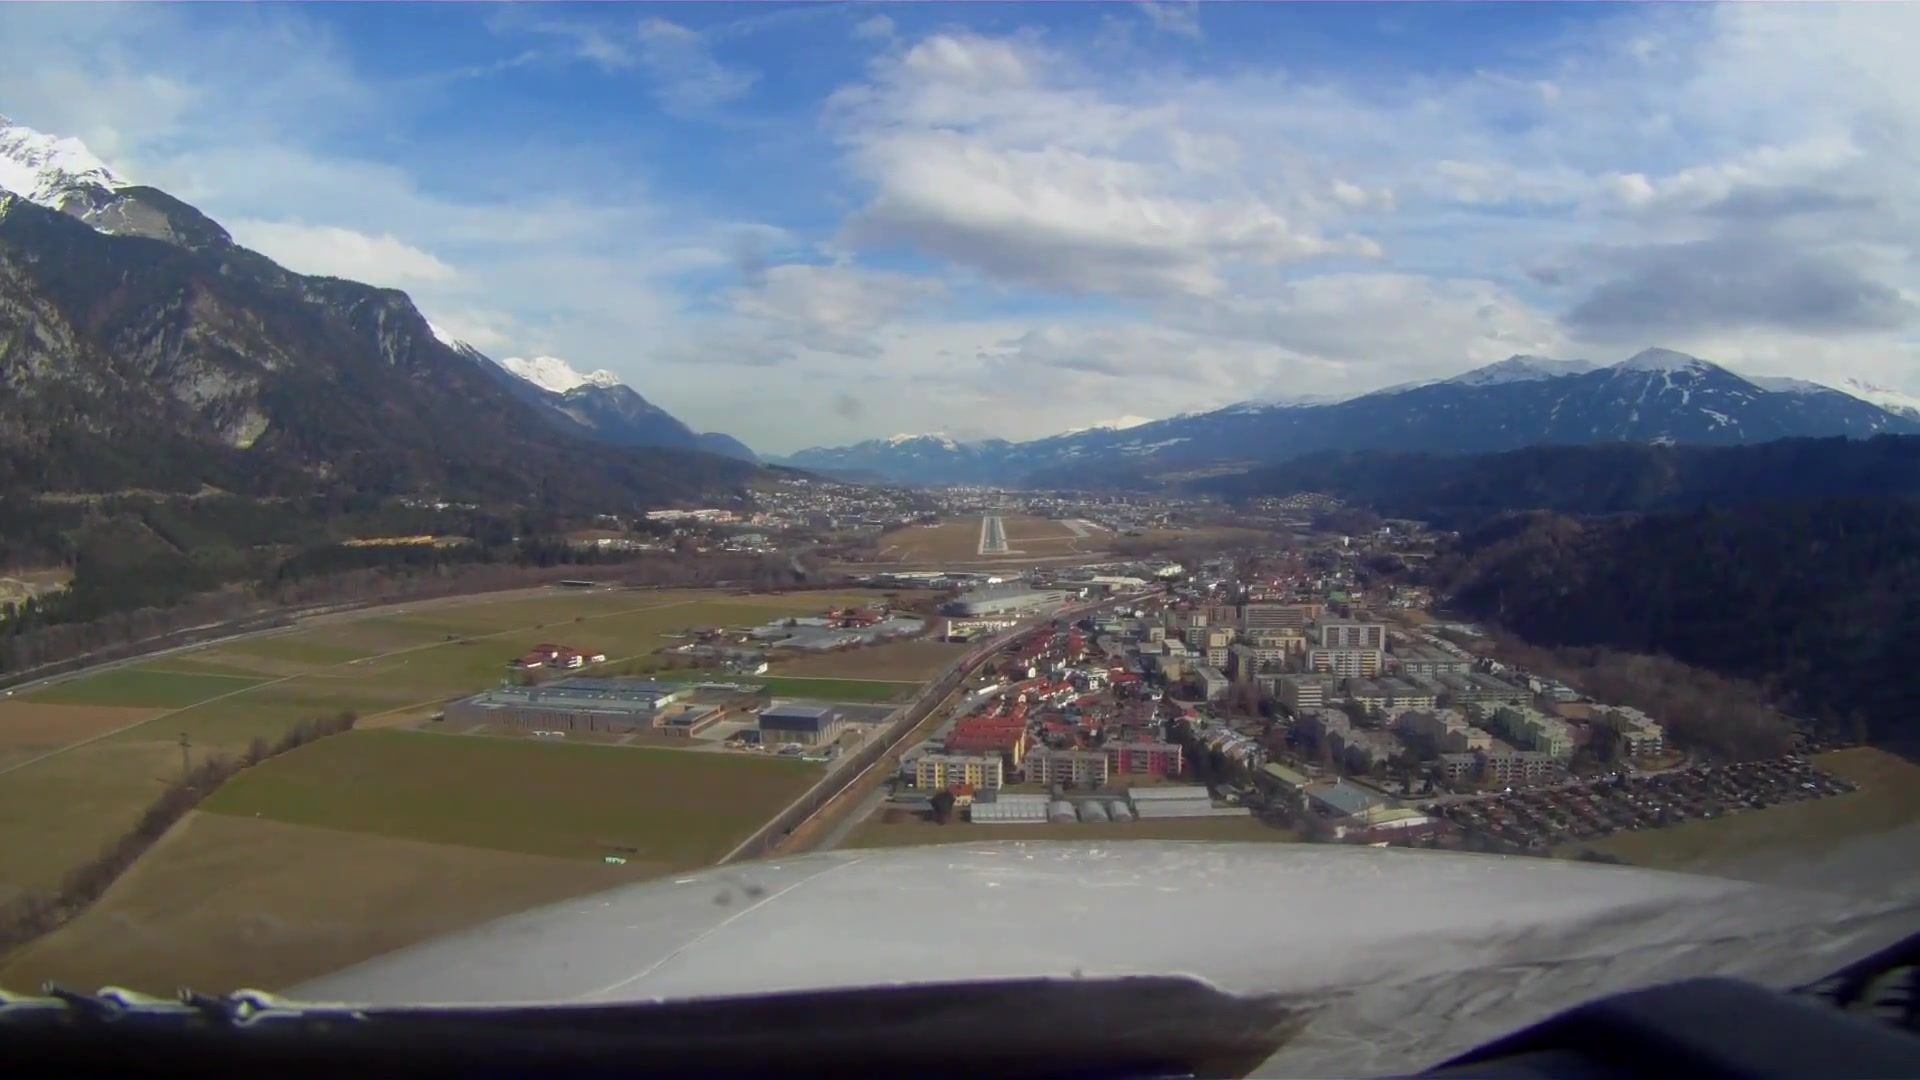runway: (977, 517, 1010, 556)
